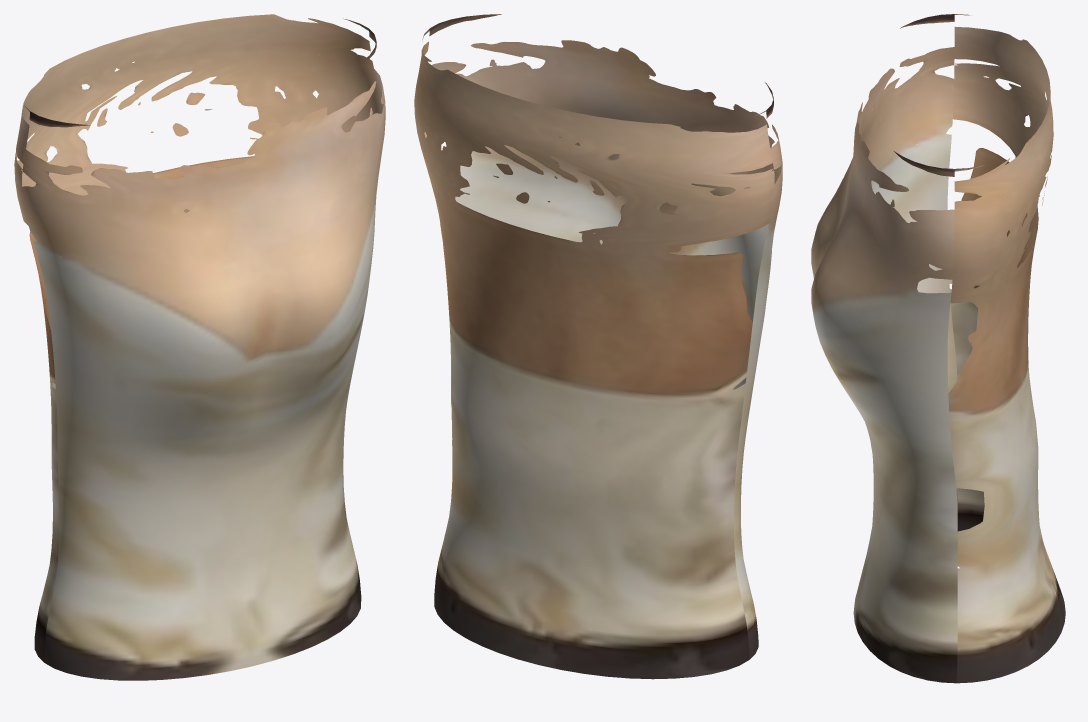
The model's file is prod-ae-butter-silk-cami.glb.
3 views of the same model, side by side, from view 1: azimuth 30°, elevation 25°; view 2: azimuth 150°, elevation 25°; view 3: azimuth 270°, elevation 25° (orthographic). The views are drawn at different scales.
Parts seen in each view (by area): view 1: prod-ae-butter-silk-cami; view 2: prod-ae-butter-silk-cami; view 3: prod-ae-butter-silk-cami.
Boxes of the visible parts, left/top/right/bottom form: prod-ae-butter-silk-cami: left=14, top=14, right=385, bottom=680; prod-ae-butter-silk-cami: left=414, top=14, right=782, bottom=679; prod-ae-butter-silk-cami: left=811, top=14, right=1065, bottom=683.
Size of the model in its own units: 0.2227 by 0.3492 by 0.1517.
1 material, 1 textured.
